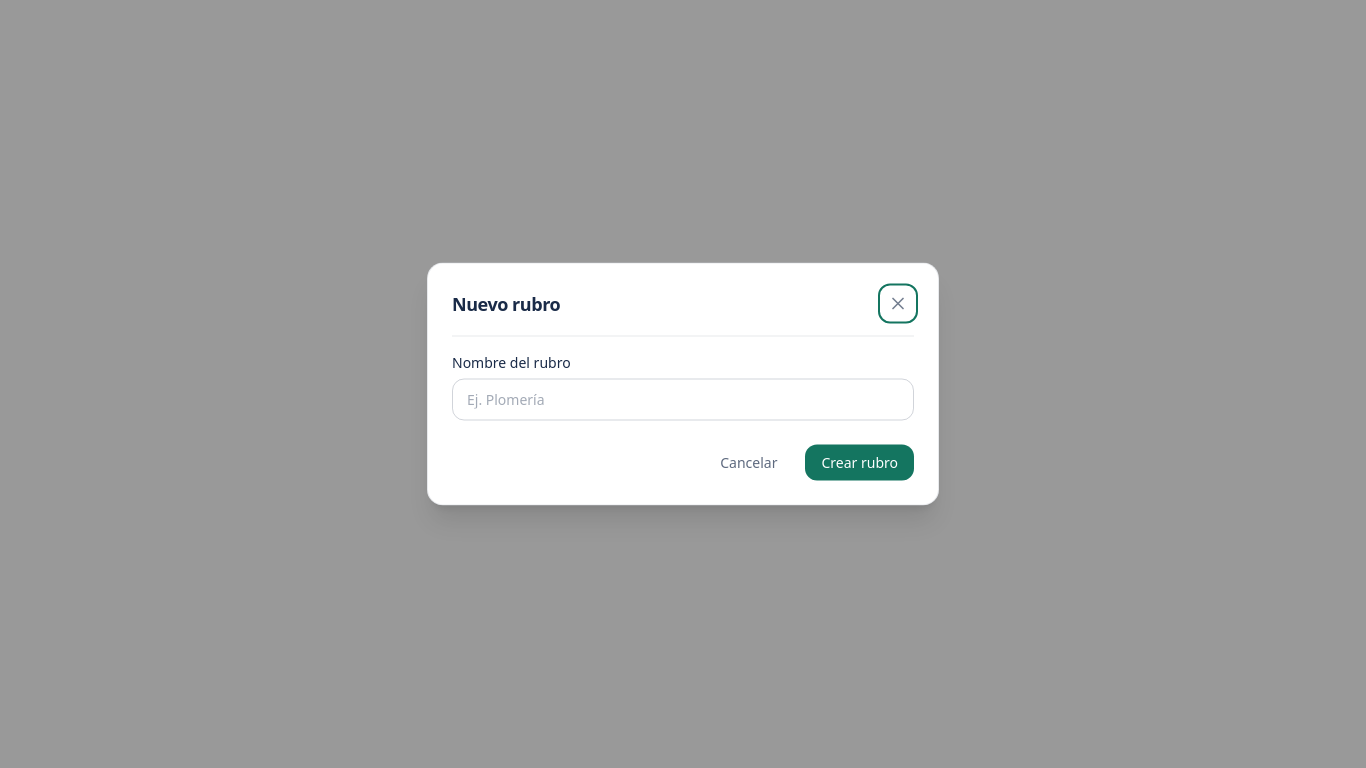
Scenario: CreateCategoryModal › validates that name is required and shows error without submitting
What coordinates should you click on to do the following:
click the button "Crear rubro"
I would click on:
 (860, 462)
Its box is [806,444,914,480].
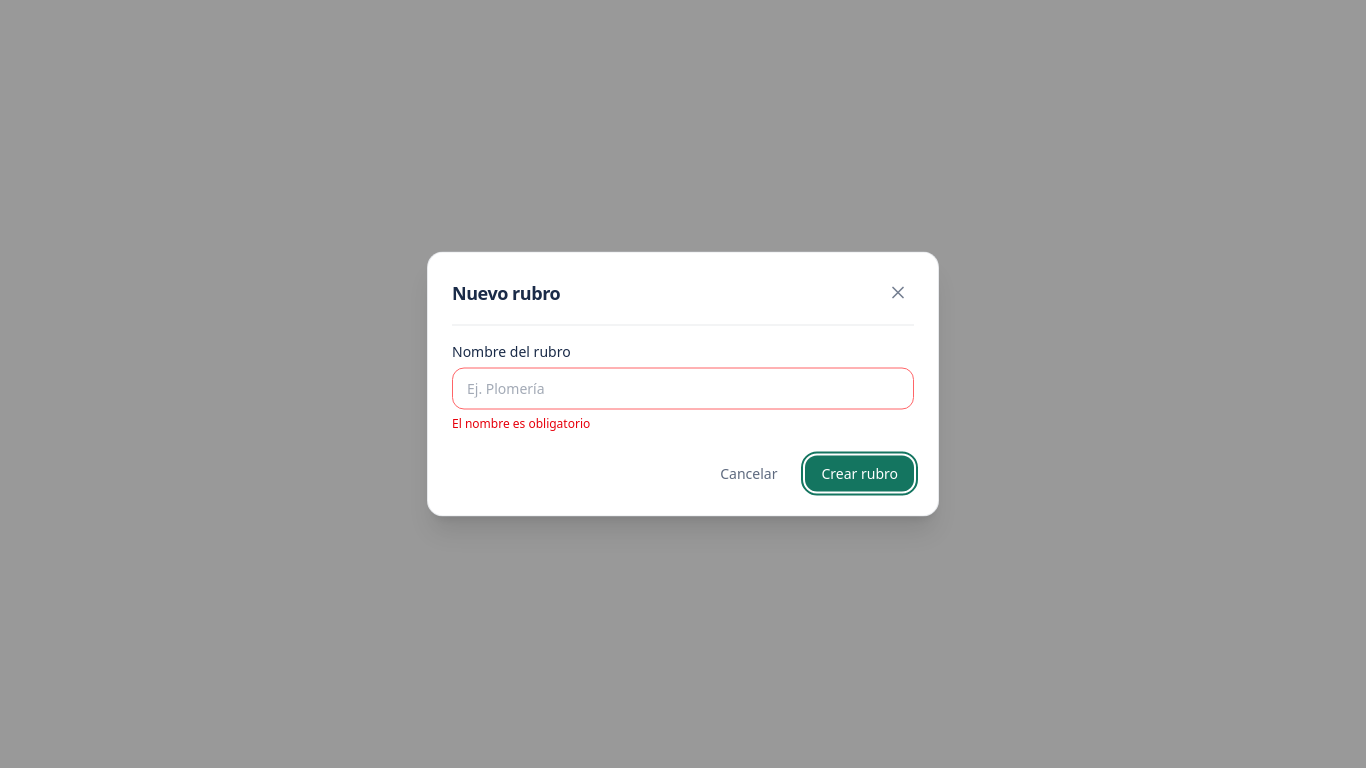
Expected: the message reads "El nombre es obligatorio", [452,414,590,432]
